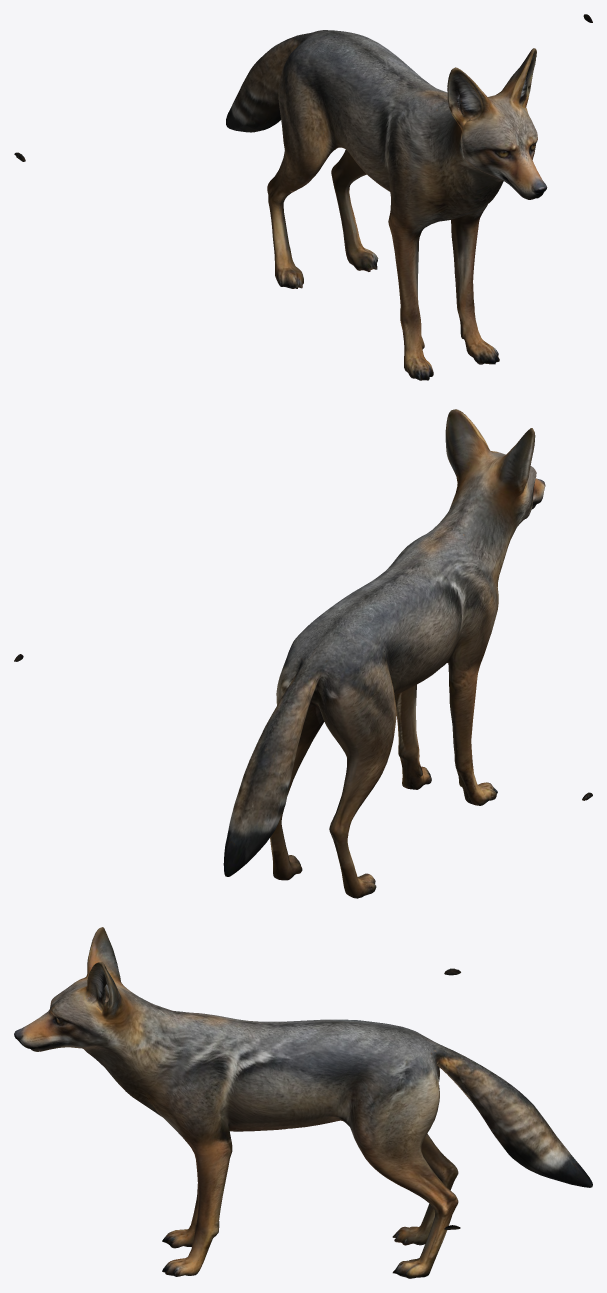
Rendered from jackal.glb.
3 views of the same model, one above another, from view 1: azimuth 30°, elevation 25°; view 2: azimuth 150°, elevation 25°; view 3: azimuth 270°, elevation 25° (orthographic). The views are drawn at different scales.
Size of the model in its own units: 2.1 by 1.2 by 2.
Materials: 1 (1 with a texture image).
